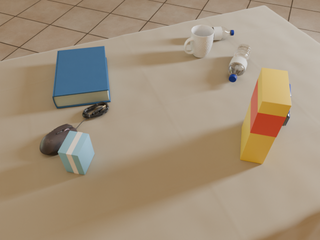book: (53, 46, 111, 108)
bottle: (228, 44, 252, 82), (212, 27, 234, 40)
box: (240, 68, 291, 164), (58, 131, 94, 175)
cup: (184, 25, 215, 58)
mouse: (40, 124, 77, 155)
